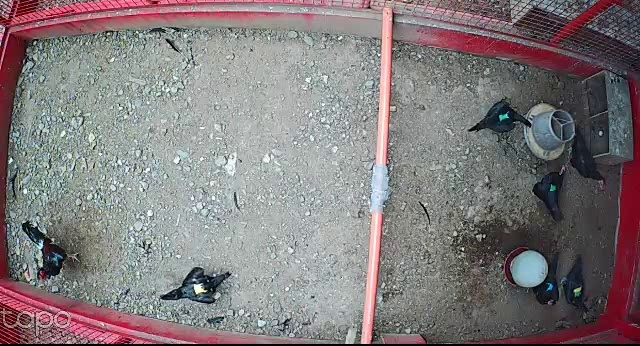Chicken: (466, 96, 540, 140), (562, 126, 607, 192), (159, 267, 234, 305), (529, 161, 567, 224), (558, 255, 589, 318), (532, 250, 560, 311)
Drinker: (503, 248, 550, 290)
Feeder: (521, 100, 575, 160)
Rooster: (19, 218, 86, 285)
Saddle_Color_Blue: (546, 283, 553, 290)
Saddle_Color_Yellow: (194, 279, 209, 296)
Saddle_Color_YellowGreen: (573, 285, 581, 298)
